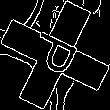P_SE: (24, 27, 86, 83)
